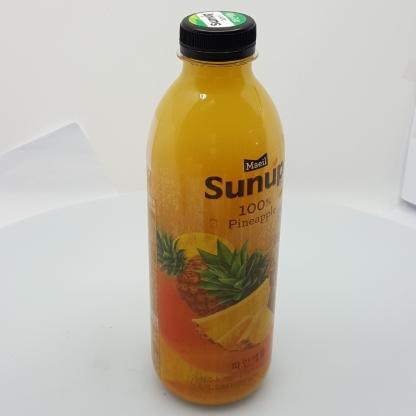----100_----750ML: (147, 9, 285, 406)
